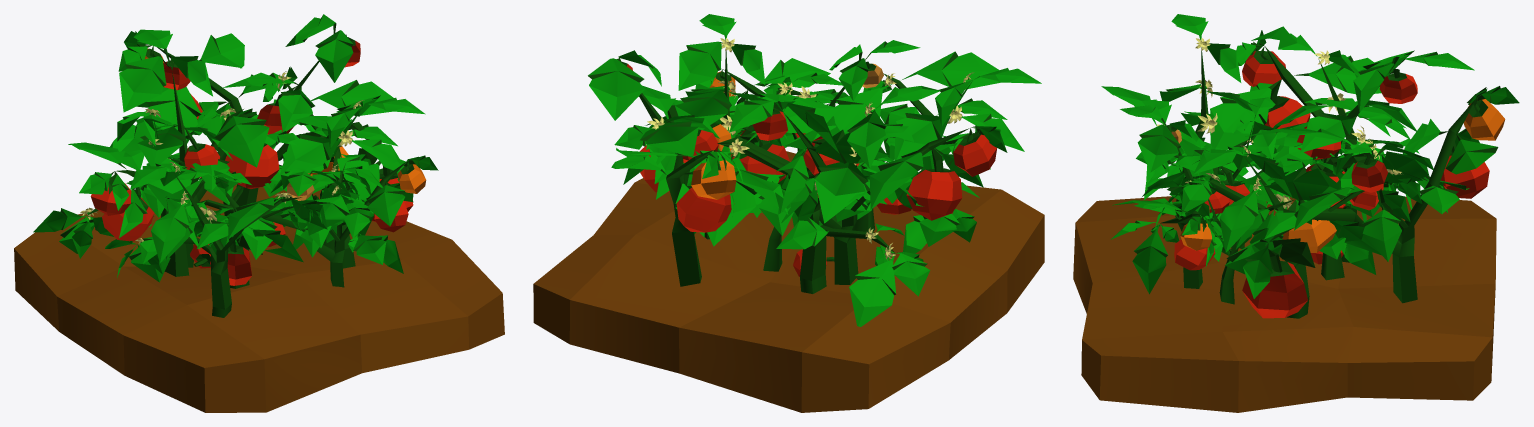
Rendered from tomatoes-field.glb.
The picture shows the model from 3 angles, left to right: view 1: azimuth 30°, elevation 25°; view 2: azimuth 150°, elevation 25°; view 3: azimuth 270°, elevation 25°; orthographic projection. The views are drawn at different scales.
Parts seen in each view (by area): view 1: ground5, tomato_3, tomato_2, tomato_1; view 2: ground5, tomato_3, tomato_2, tomato_1; view 3: ground5, tomato_3, tomato_2, tomato_1.
Boxes of the visible parts, bbox=[...] form: ground5: bbox=[14, 184, 504, 412]; tomato_3: bbox=[68, 14, 438, 287]; tomato_2: bbox=[33, 66, 425, 317]; tomato_1: bbox=[146, 127, 403, 288]; ground5: bbox=[533, 151, 1044, 412]; tomato_3: bbox=[588, 40, 1007, 286]; tomato_2: bbox=[614, 14, 1041, 326]; tomato_1: bbox=[694, 72, 919, 271]; ground5: bbox=[1073, 196, 1496, 412]; tomato_3: bbox=[1112, 30, 1519, 318]; tomato_2: bbox=[1101, 14, 1447, 318]; tomato_1: bbox=[1110, 97, 1375, 304].
Bounding box in the file's own units: 4.42 × 2.88 × 4.47.
